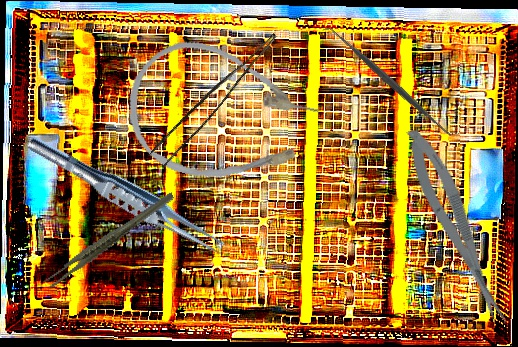Cannula: (114, 28, 330, 204)
Micro Scissor: (398, 122, 514, 333)
Spatula Surgical: (321, 17, 461, 147)
Tissue Forceps: (21, 130, 234, 263), (148, 20, 277, 172), (31, 190, 188, 291)
